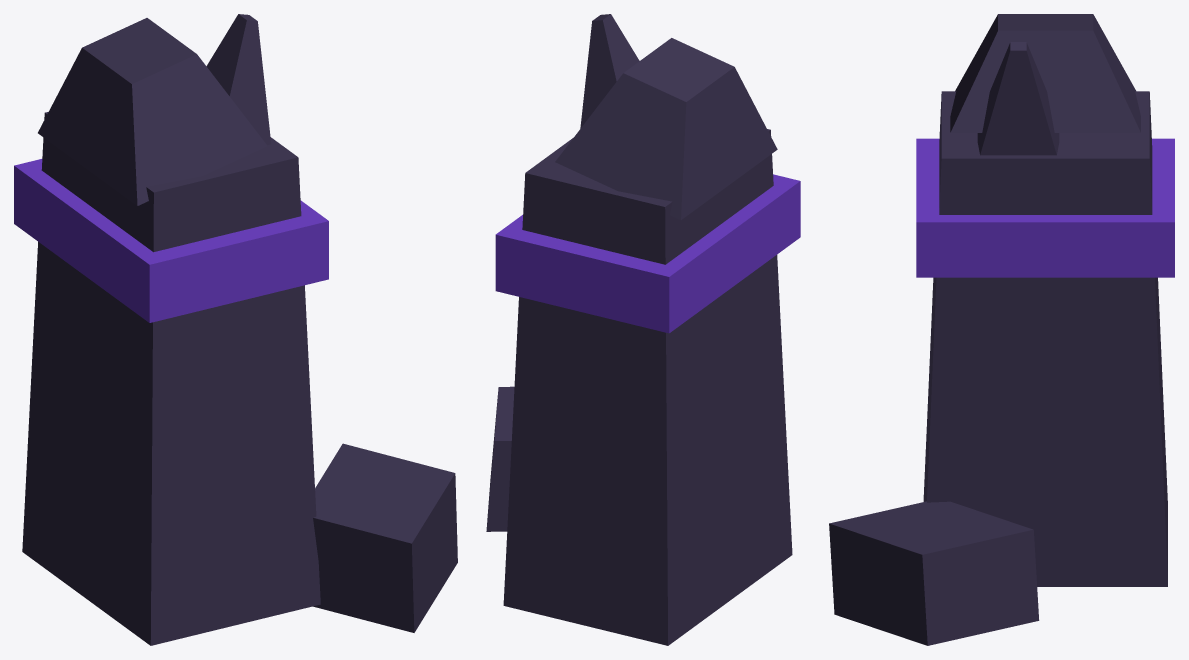
Rendered from env_r16_broken_obelisk.glb.
3 renders of one model, left to right at view 1: azimuth 30°, elevation 25°; view 2: azimuth 150°, elevation 25°; view 3: azimuth 270°, elevation 25°, orthographic. The views are drawn at different scales.
Parts seen in each view (by area): view 1: env_r16_broken_obelisk; view 2: env_r16_broken_obelisk; view 3: env_r16_broken_obelisk.
Boxes of the visible parts, x1,y1,x2,y2 form: env_r16_broken_obelisk: (14,14,457,645); env_r16_broken_obelisk: (486,14,800,645); env_r16_broken_obelisk: (829,14,1174,645).
Size of the model in its own units: 1.4 by 2.4 by 1.4.
Materials: 1 (1 with a texture image).
